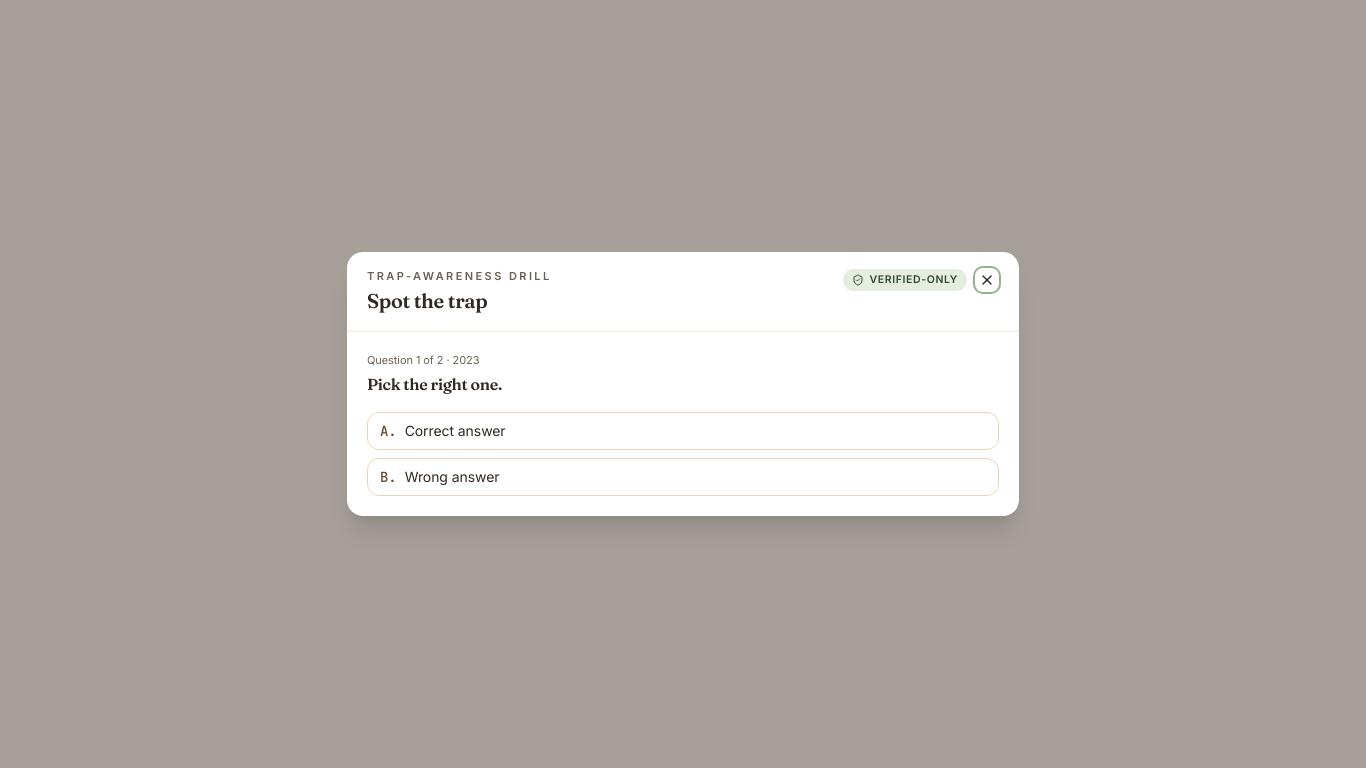
Scenario: opens, loads, and plays through to summary
Check: the element with test id "trap-drill-question" is shown, box [367, 352, 999, 496]
Check: the heading "Pick the right one." is shown, box [367, 374, 502, 394]
Note: Pick the wrong answer — trap insight should surface.
Step 1. Click the radio button with test id "drill-option-B" → (452, 476), box [367, 458, 999, 496]
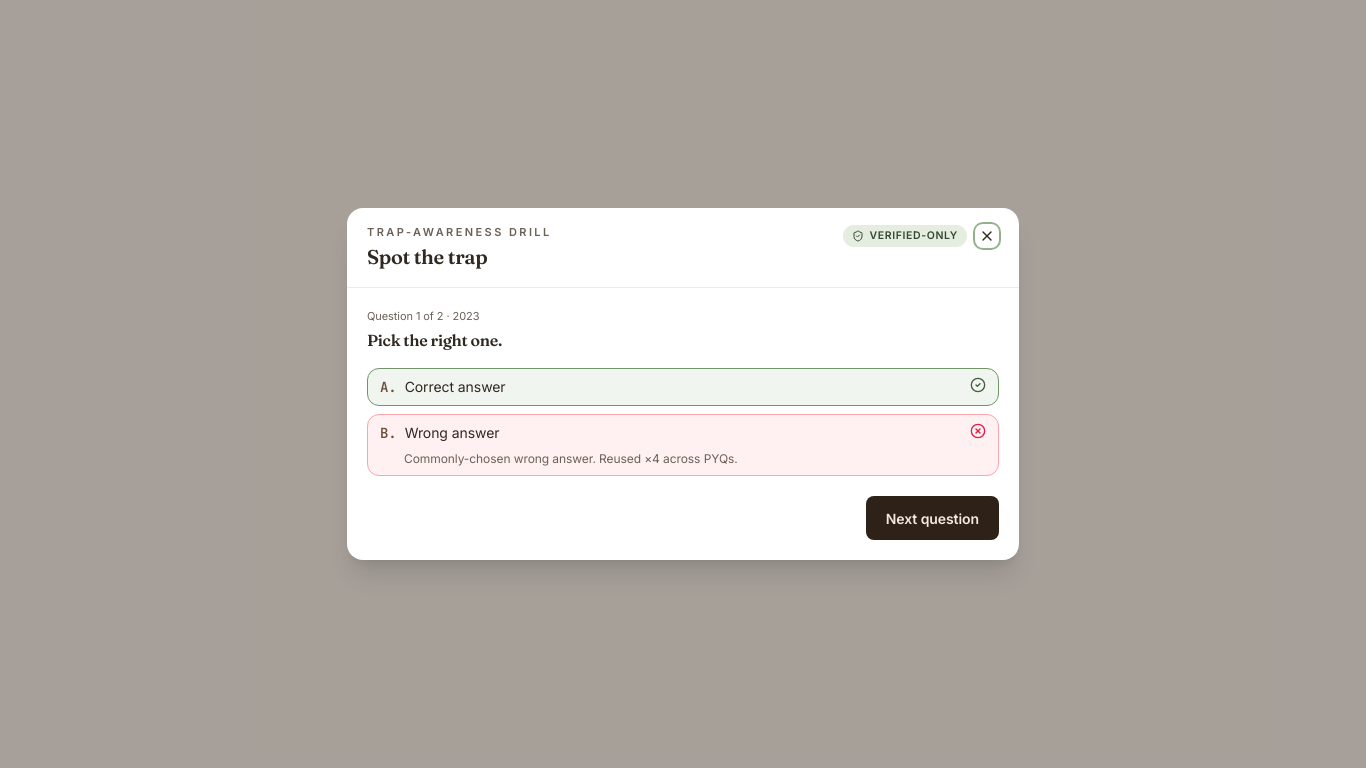
Check: the list item "Commonly-chosen wrong answer. Reused ×4 across PYQs." is shown, box [404, 451, 738, 466]
Note: Advance to question 2.
Step 2. Click the button with test id "trap-drill-next" → (932, 518), box [866, 496, 999, 540]
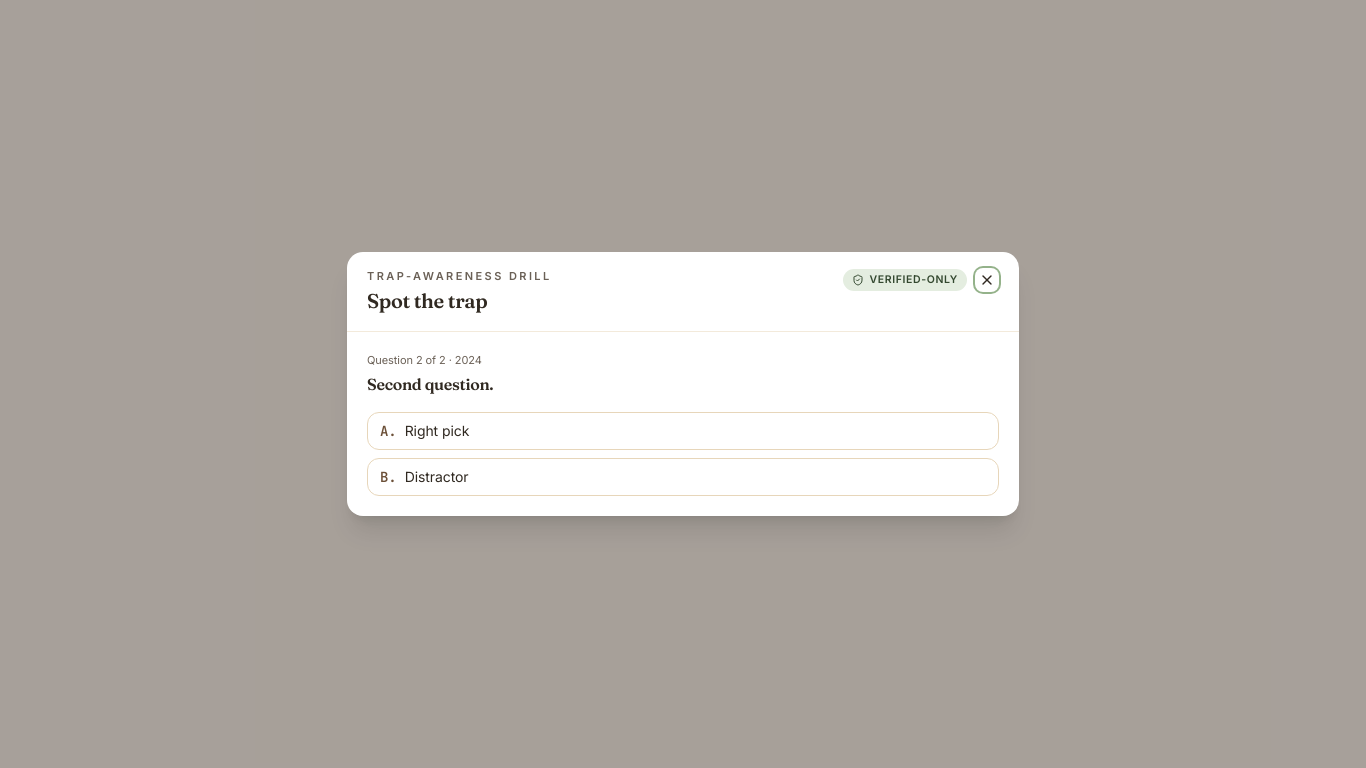
Check: the heading "Second question." is shown, box [367, 374, 493, 394]
Note: Pick correctly, finish.
Step 3. Click the radio button with test id "drill-option-A" → (437, 430), box [367, 412, 999, 450]
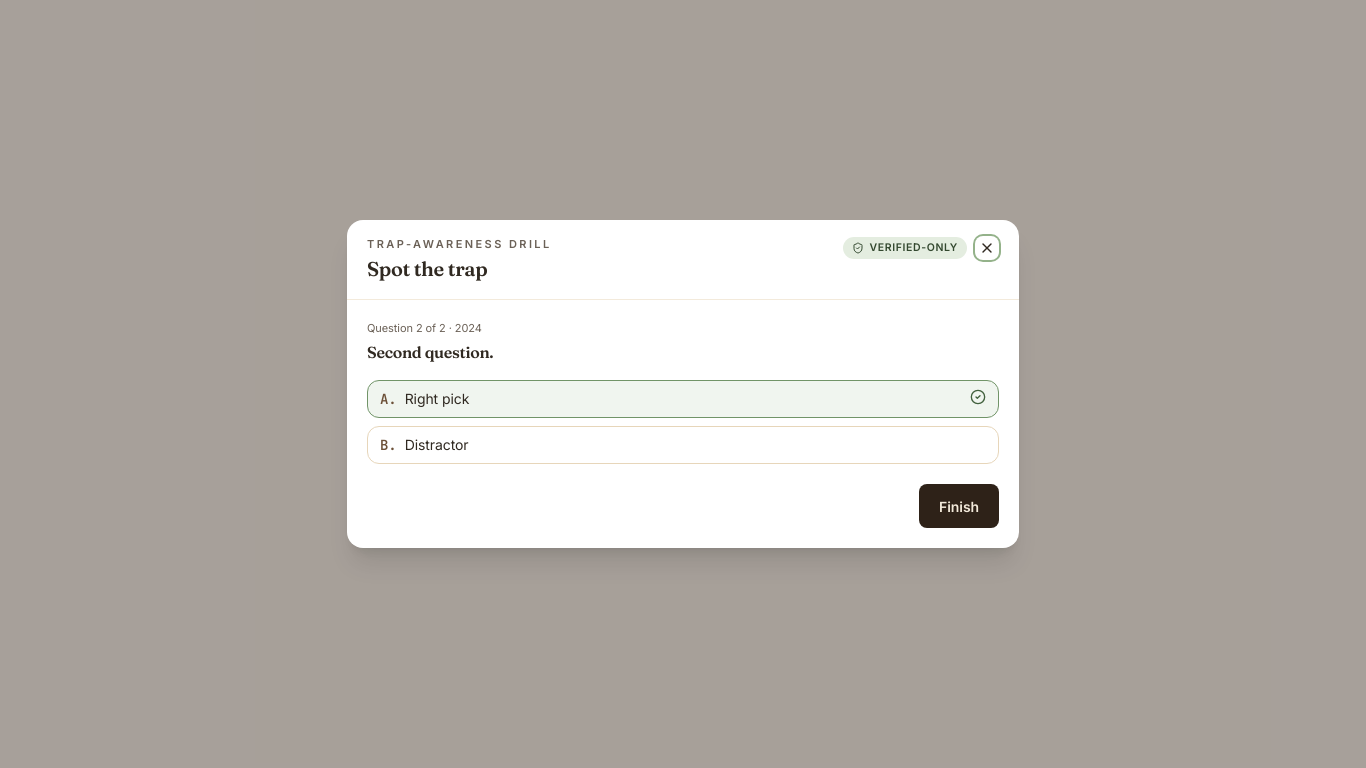
Step 4. Click the button with test id "trap-drill-next" → (959, 506), box [919, 484, 999, 528]
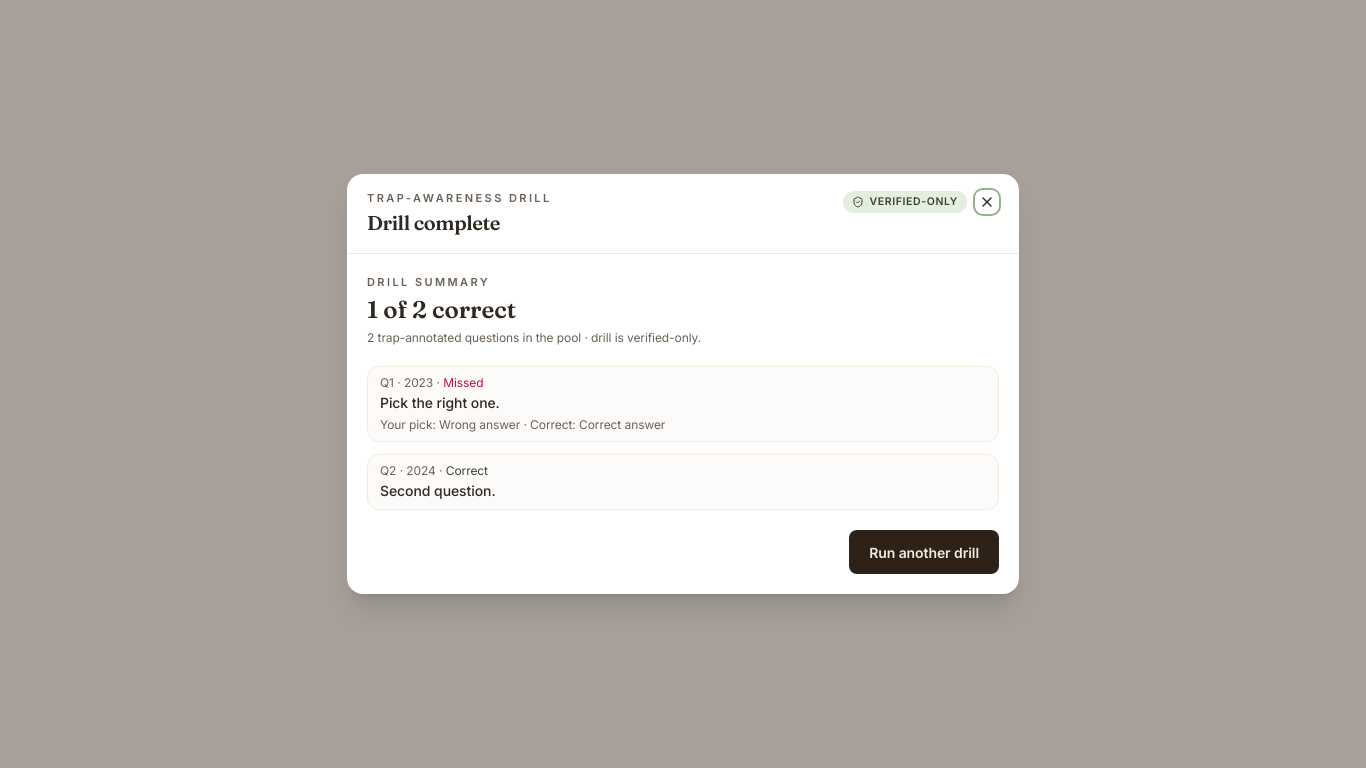
Check: the element with test id "trap-drill-summary" is shown, box [367, 274, 999, 574]
Check: the text "1 of 2 correct" is shown, box [367, 295, 516, 324]
